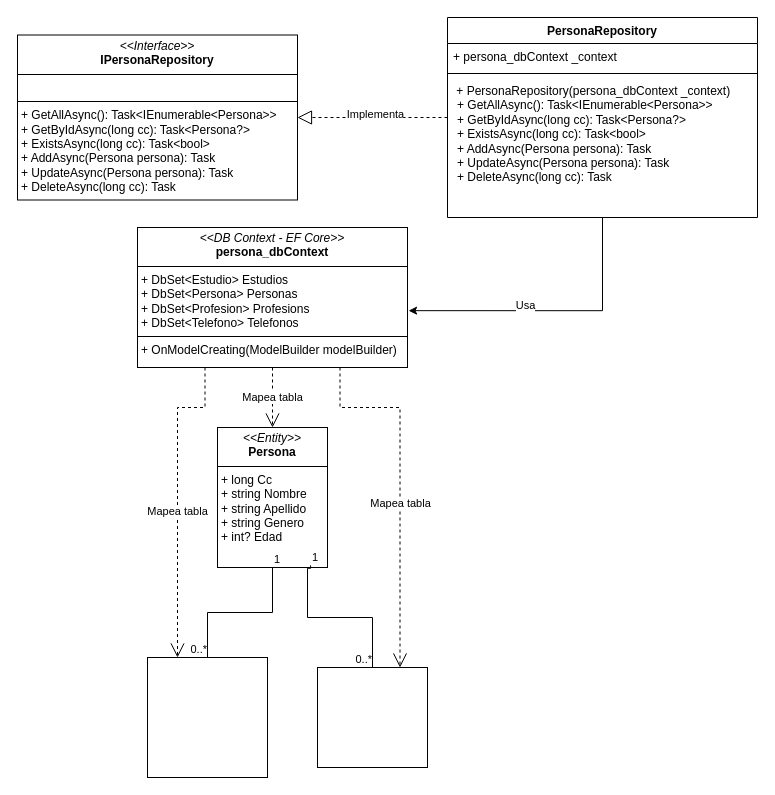
This 775x795 diagram has some shape labels left out. The shapes that lost their labels are listed below. From the top down, each one's centre as x and y in pixels, then its label:
At point 207,717: "<<Entity>> Estudio + int IdProf + long CcPer + DateTime? Fecha + string? Univer".
At point 372,717: "<<Entity>> Telefono + string Num + string Oper + Long Duenio".
